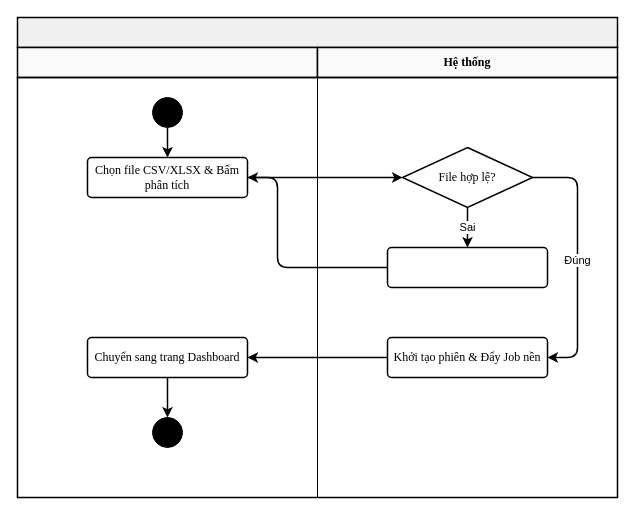
This 636x517 diagram has some shape labels left out. Here are the shapes that lost their labels. From the top down, the box of each, then its label:
(16, 16, 618, 48): QUY TRÌNH TẢI FILE VÀ KHỞI TẠO PHÂN TÍCH
(16, 46, 318, 78): Người phân tích
(386, 246, 548, 288): Báo lỗi (định dạng / dung lượng)
